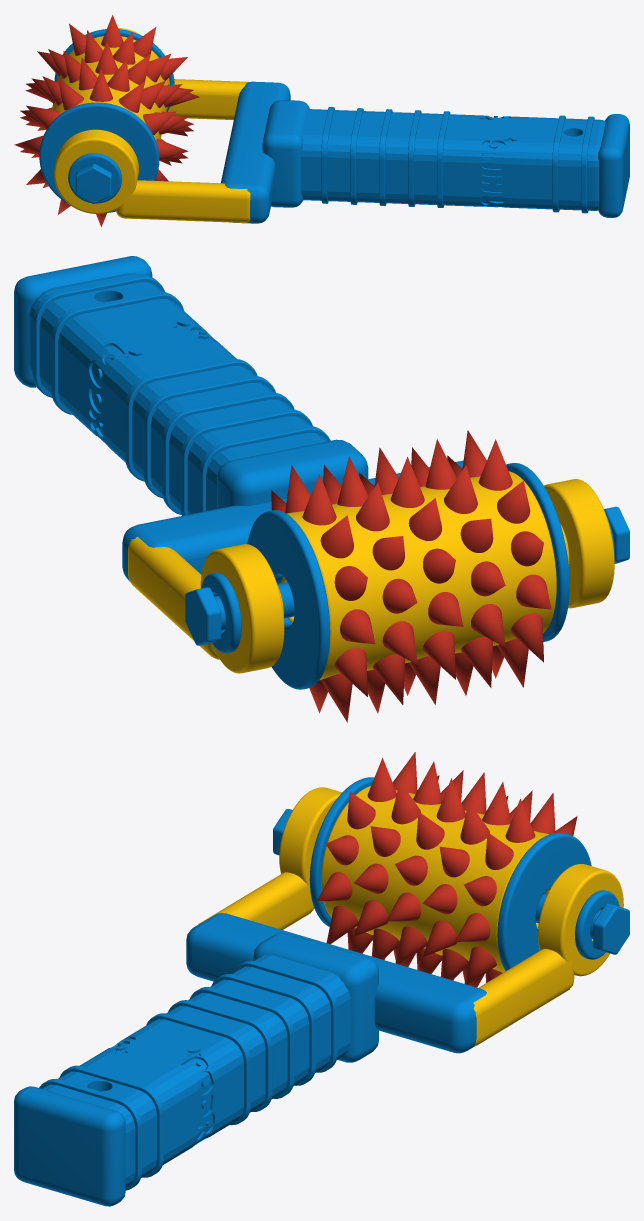
File: crank.glb
The picture shows the model from 3 angles, top to bottom: view 1: azimuth 30°, elevation 25°; view 2: azimuth 150°, elevation 25°; view 3: azimuth 270°, elevation 25°; orthographic projection. The views are drawn at different scales.
Parts seen in each view (by area): view 1: crank-part-077, crank-part-075, crank-part-067, crank-part-002, crank-part-065, crank-part-076, crank-part-078, crank-part-072, crank-part-001, crank-part-068, crank-part-066, crank-part-084 (+25 smaller); view 2: crank-part-077, crank-part-001, crank-part-003, crank-part-070, crank-part-076, crank-part-065, crank-part-075, crank-part-072, crank-part-078, crank-part-002, crank-part-073, crank-part-084 (+41 smaller); view 3: crank-part-077, crank-part-001, crank-part-075, crank-part-078, crank-part-003, crank-part-076, crank-part-072, crank-part-070, crank-part-067, crank-part-065, crank-part-002, crank-part-073 (+34 smaller).
Part boxes in pixels (x1,y1,x2,y2): crank-part-077: (301, 109, 605, 210); crank-part-075: (221, 81, 290, 223); crank-part-067: (116, 180, 250, 222); crank-part-002: (39, 102, 159, 212); crank-part-065: (54, 129, 138, 213); crank-part-076: (262, 100, 309, 207); crank-part-078: (598, 114, 629, 217); crank-part-072: (168, 79, 248, 119); crank-part-001: (52, 36, 169, 140); crank-part-068: (75, 163, 112, 203); crank-part-066: (68, 153, 121, 203); crank-part-084: (552, 115, 565, 212); crank-part-077: (29, 273, 327, 514); crank-part-001: (281, 471, 556, 680); crank-part-003: (247, 510, 330, 689); crank-part-070: (200, 544, 284, 673); crank-part-076: (217, 439, 368, 508); crank-part-065: (544, 479, 614, 608); crank-part-075: (122, 460, 463, 581); crank-part-072: (128, 537, 219, 659); crank-part-078: (14, 256, 152, 387); crank-part-002: (506, 463, 569, 641); crank-part-073: (185, 587, 221, 645); crank-part-084: (51, 292, 183, 414); crank-part-077: (42, 955, 350, 1187); crank-part-001: (321, 786, 549, 972); crank-part-075: (186, 913, 486, 1053); crank-part-078: (14, 1086, 125, 1206); crank-part-003: (497, 832, 591, 970); crank-part-076: (253, 932, 378, 1062); crank-part-072: (473, 949, 574, 1046); crank-part-070: (538, 864, 623, 976); crank-part-067: (198, 872, 314, 929); crank-part-065: (279, 787, 341, 885); crank-part-002: (309, 777, 374, 926); crank-part-073: (593, 903, 629, 954).
Size of the model in its own units: 3 by 0.9397 by 2.52.
